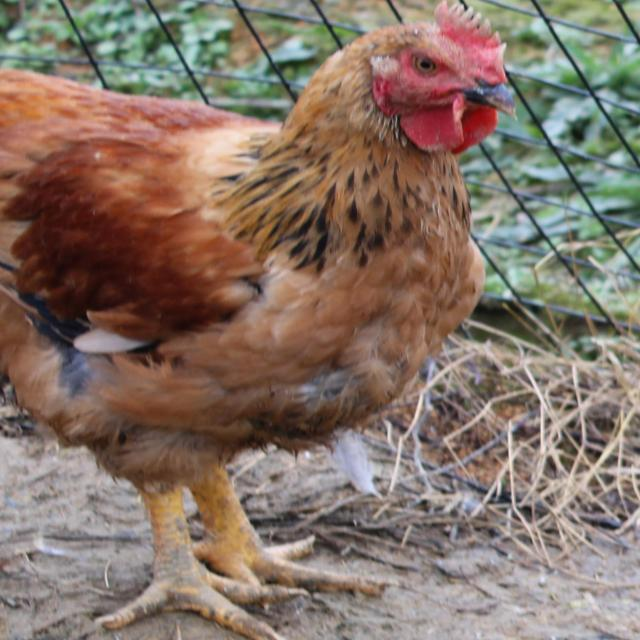hen: (2, 5, 512, 640)
